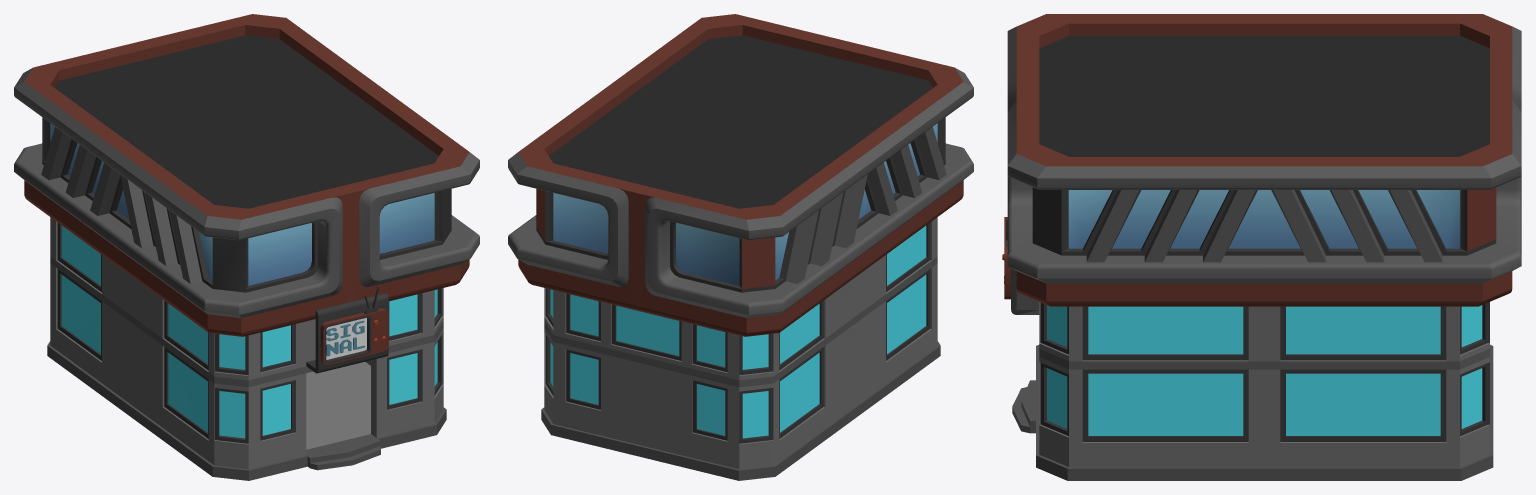
File: SM_Buildings_Commercial_13.fbx
3 views of the same model, side by side, from view 1: azimuth 30°, elevation 25°; view 2: azimuth 150°, elevation 25°; view 3: azimuth 270°, elevation 25° (orthographic). The views are drawn at different scales.
Parts seen in each view (by area): view 1: SM_Buildings_Commercial_13; view 2: SM_Buildings_Commercial_13; view 3: SM_Buildings_Commercial_13.
Boxes of the visible parts, left/top/right/bottom form: SM_Buildings_Commercial_13: left=14, top=14, right=479, bottom=480; SM_Buildings_Commercial_13: left=508, top=14, right=973, bottom=480; SM_Buildings_Commercial_13: left=1002, top=14, right=1521, bottom=480.
Bounding box in the file's own units: 8.4 × 7.9 × 11.52.
